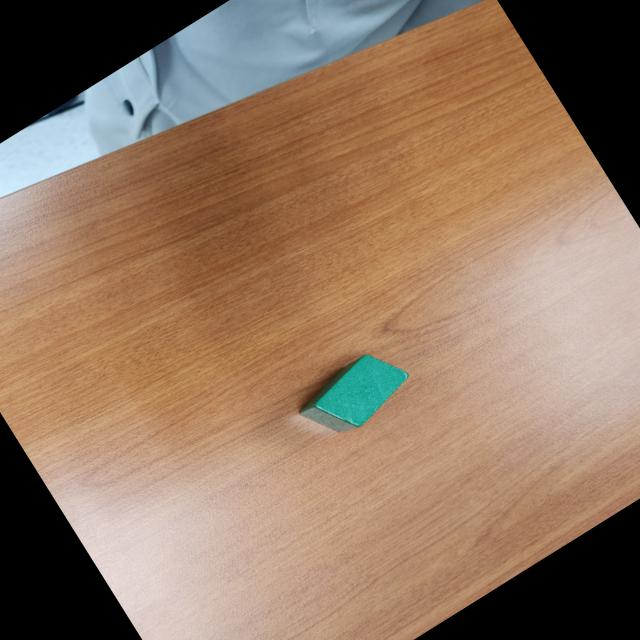green: (289, 338, 420, 451)
